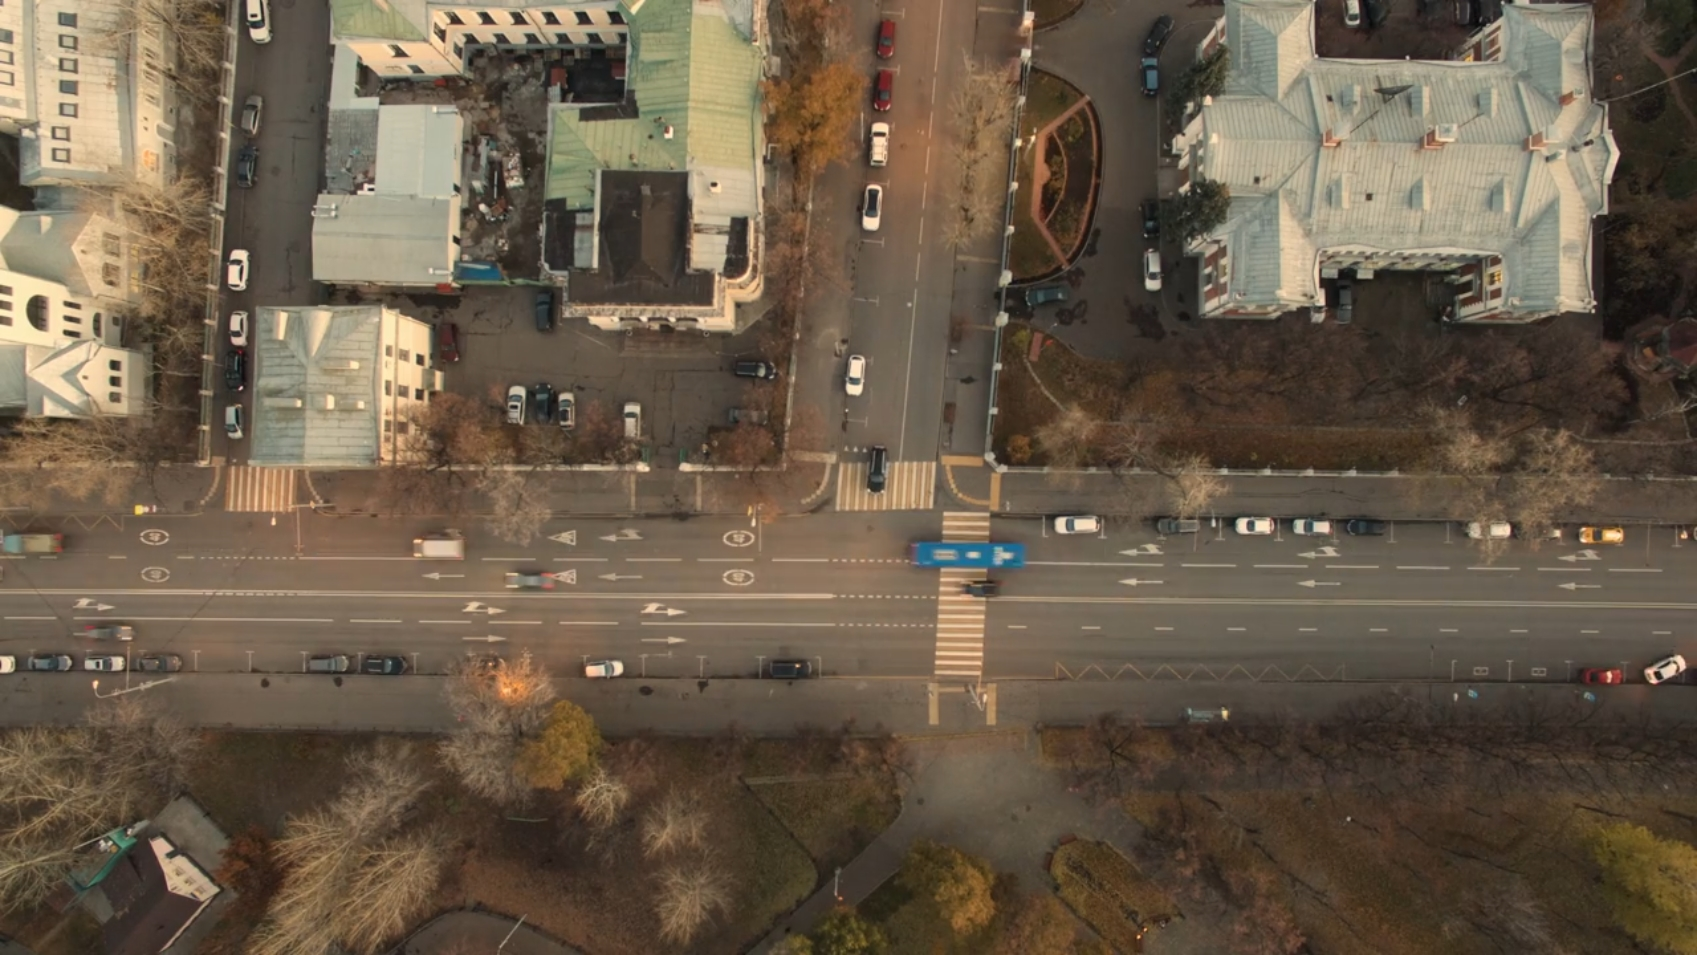car: (907, 540, 1030, 573), (1, 529, 71, 559), (413, 533, 469, 562), (504, 568, 559, 594), (1142, 14, 1178, 54), (244, 1, 276, 43), (865, 443, 890, 496), (1642, 654, 1685, 684), (435, 319, 463, 366), (362, 651, 409, 677), (82, 622, 138, 642), (1233, 513, 1281, 538), (1577, 524, 1625, 547), (875, 13, 897, 62), (733, 359, 779, 382), (1141, 247, 1164, 293), (768, 658, 816, 680), (139, 651, 185, 673), (505, 384, 527, 430), (1514, 520, 1559, 542), (307, 652, 350, 675), (1052, 513, 1100, 534), (1154, 515, 1202, 536), (869, 120, 890, 168), (861, 182, 881, 232), (224, 350, 247, 392), (1465, 519, 1512, 540), (1139, 199, 1162, 241), (1022, 285, 1069, 306), (584, 656, 627, 679), (845, 352, 866, 398), (534, 382, 555, 427), (960, 577, 1002, 599), (242, 93, 262, 140), (533, 289, 554, 332), (1139, 56, 1161, 97), (1579, 666, 1625, 686), (224, 402, 247, 441), (1291, 517, 1333, 538), (28, 653, 72, 673), (228, 248, 248, 293), (238, 147, 258, 191), (621, 401, 642, 442), (728, 405, 768, 426), (84, 654, 131, 672), (1345, 517, 1386, 536), (228, 310, 249, 347), (557, 389, 576, 431), (876, 65, 892, 115), (1337, 279, 1352, 325), (1309, 285, 1328, 322), (1342, 1, 1362, 29), (1, 653, 20, 677)
